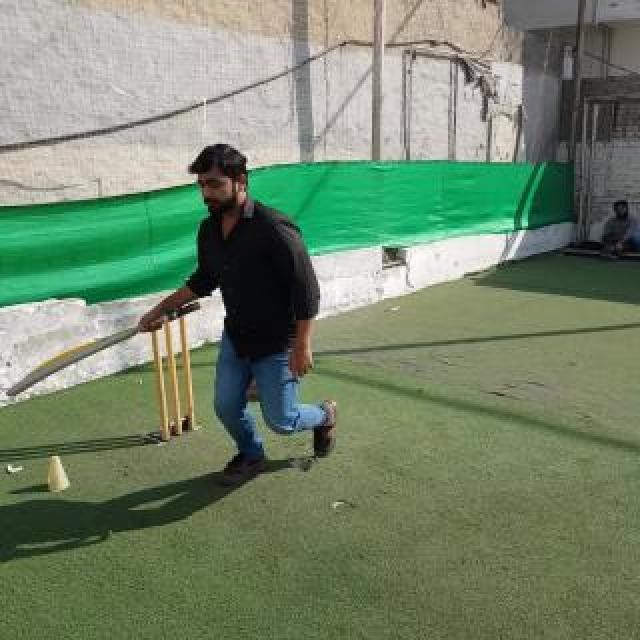bat: (6, 301, 202, 397)
